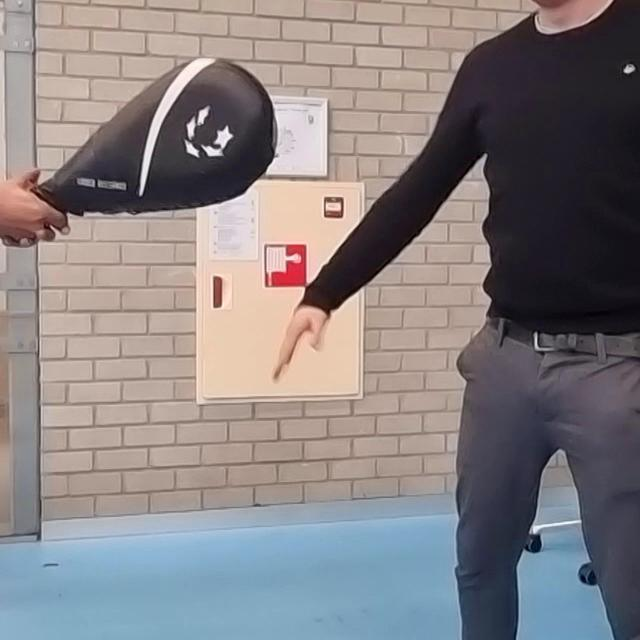paddle: (24, 56, 275, 217)
